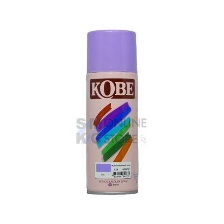aerosol_cans: (80, 25, 141, 196)
